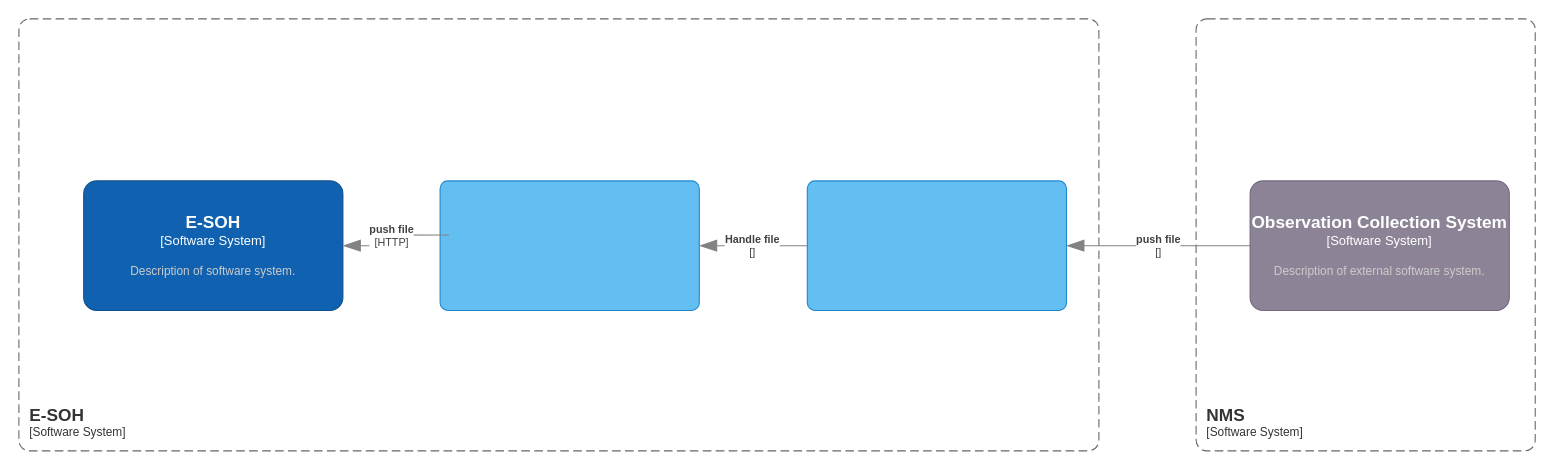
Some shapes in this 1554 by 470 pixel diagram are drawn without their labels. The shapes that lost their labels are listed below. From the top down, each one's centre as x and y in pixels, then its label:
At (x=569, y=245): "FTP Handling script [Component: ] Description of component role/responsibility.".
At (x=936, y=245): "sFTP Server [Component: sftp] Description of component role/responsibility.".
